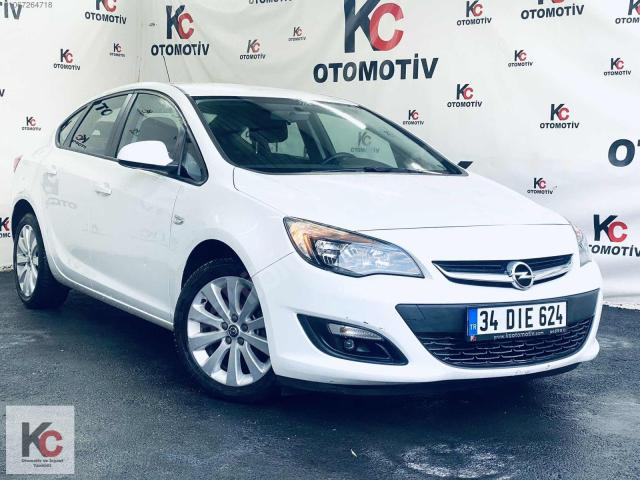plaka: (468, 301, 568, 336)
